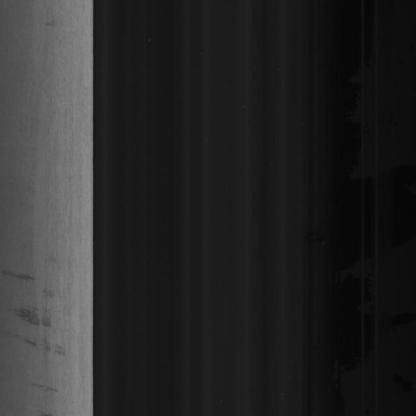water_spot: (9, 258, 81, 399)
